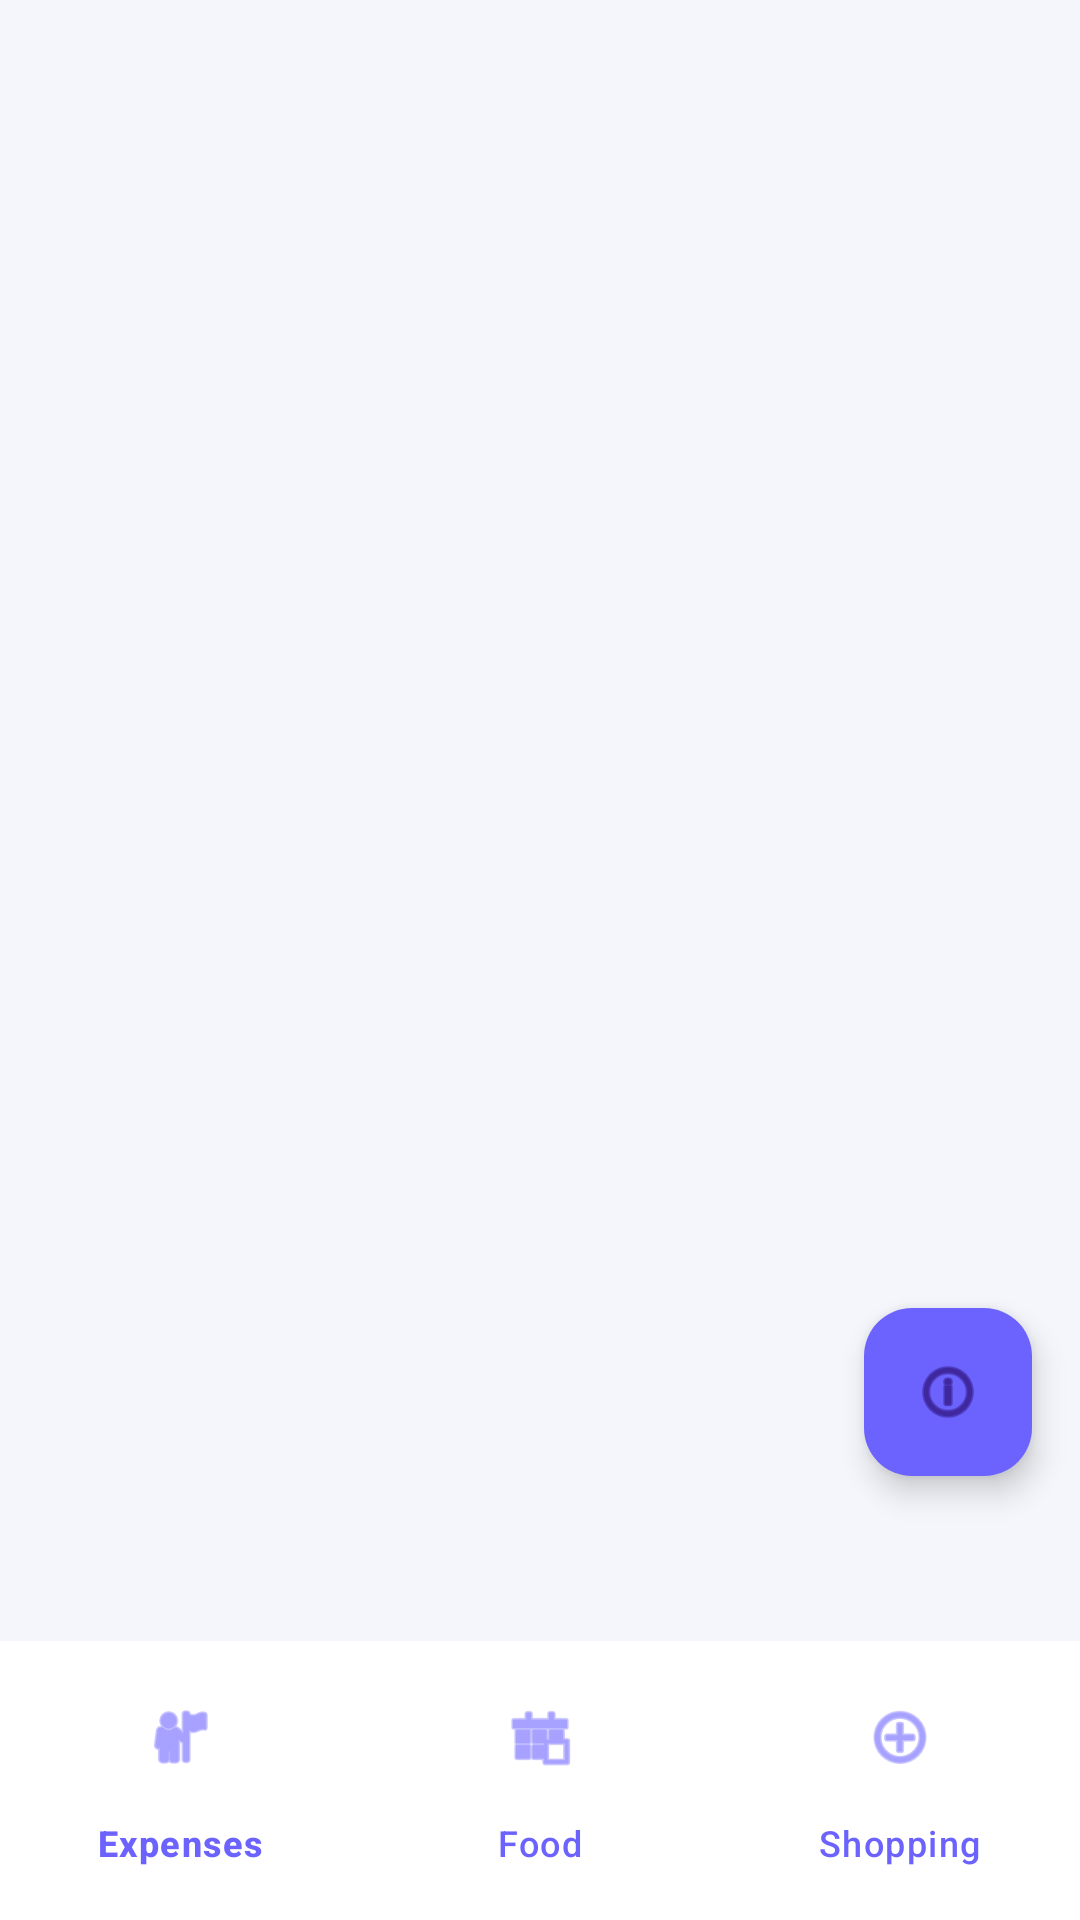

Icon click points for this 1080×1920 phone screenshot, format (x,y):
Insights: (948,1392)
